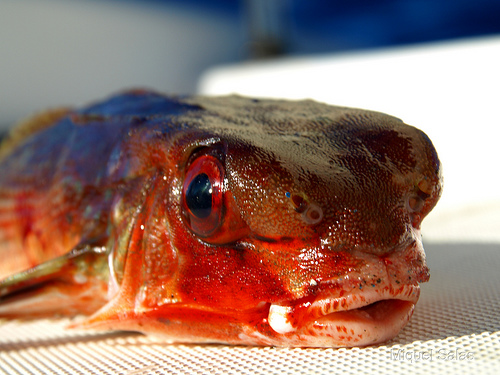fish: (0, 88, 442, 346)
